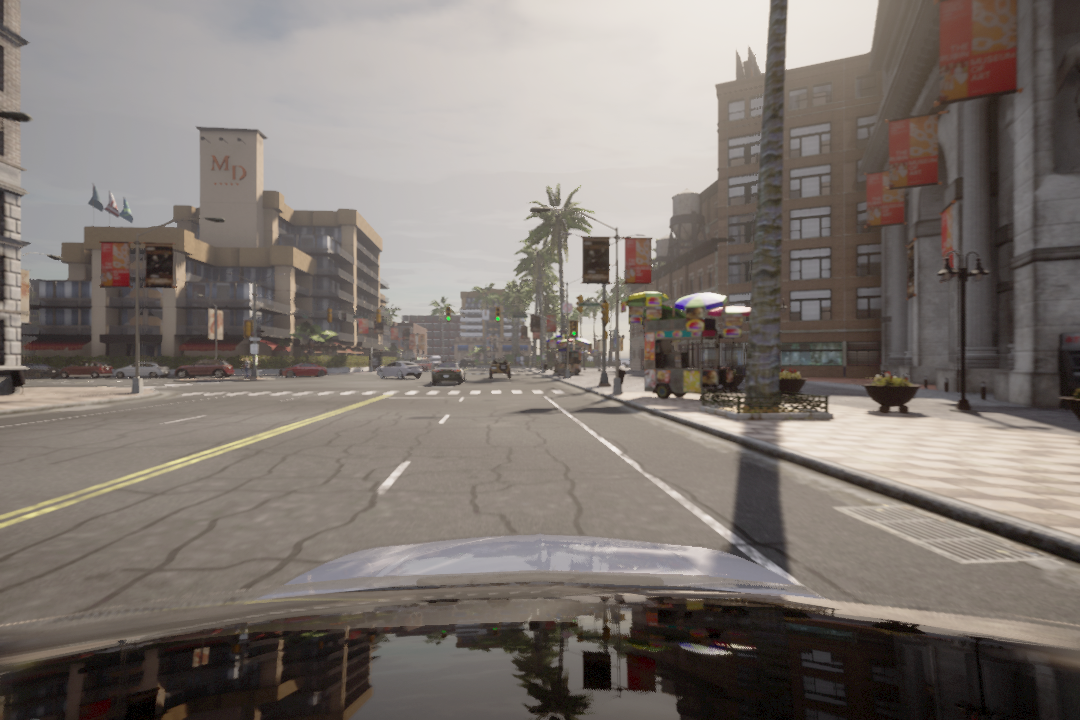TrafficLight: (569, 318, 579, 342), (494, 303, 503, 327), (446, 307, 451, 323)
walkside: (166, 387, 573, 396)
